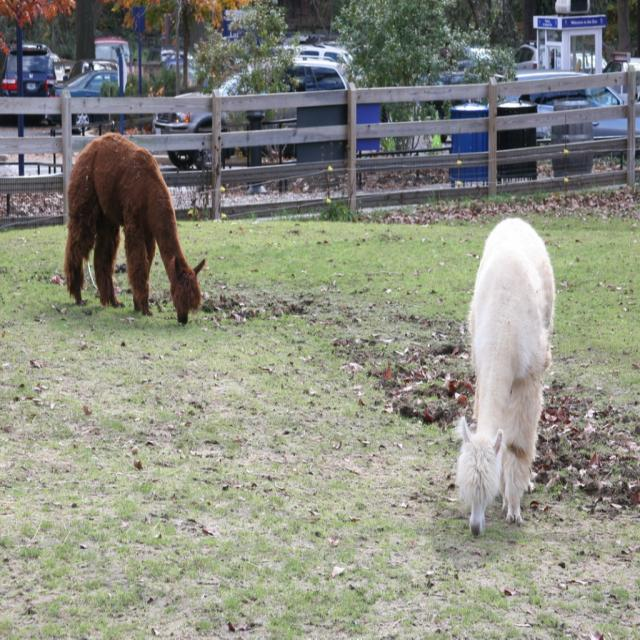Horse: (453, 215, 553, 538), (63, 131, 209, 326)
